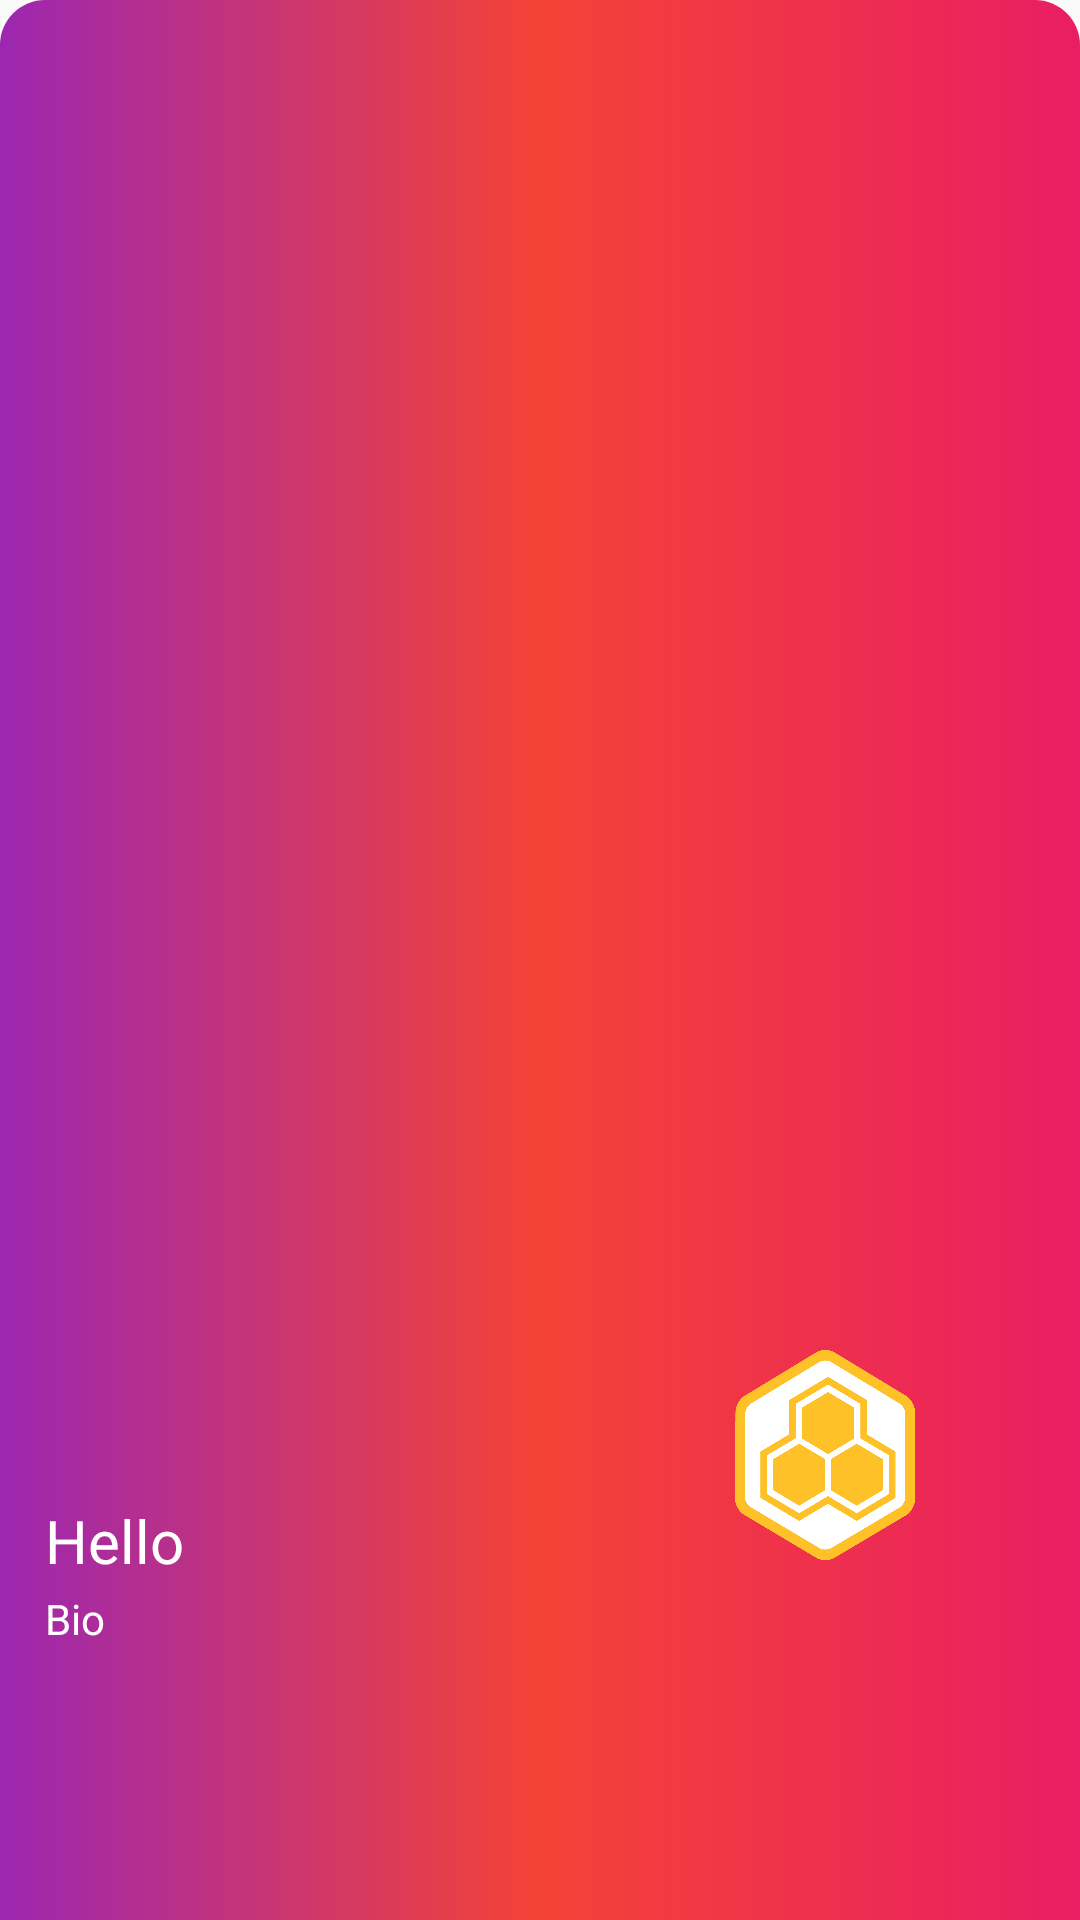

Locate icon controls on the screen. Image size 1080*1920, boxes as bbox=(x1, y1, x2, y2).
hexa: bbox=(735, 1350, 915, 1560)
